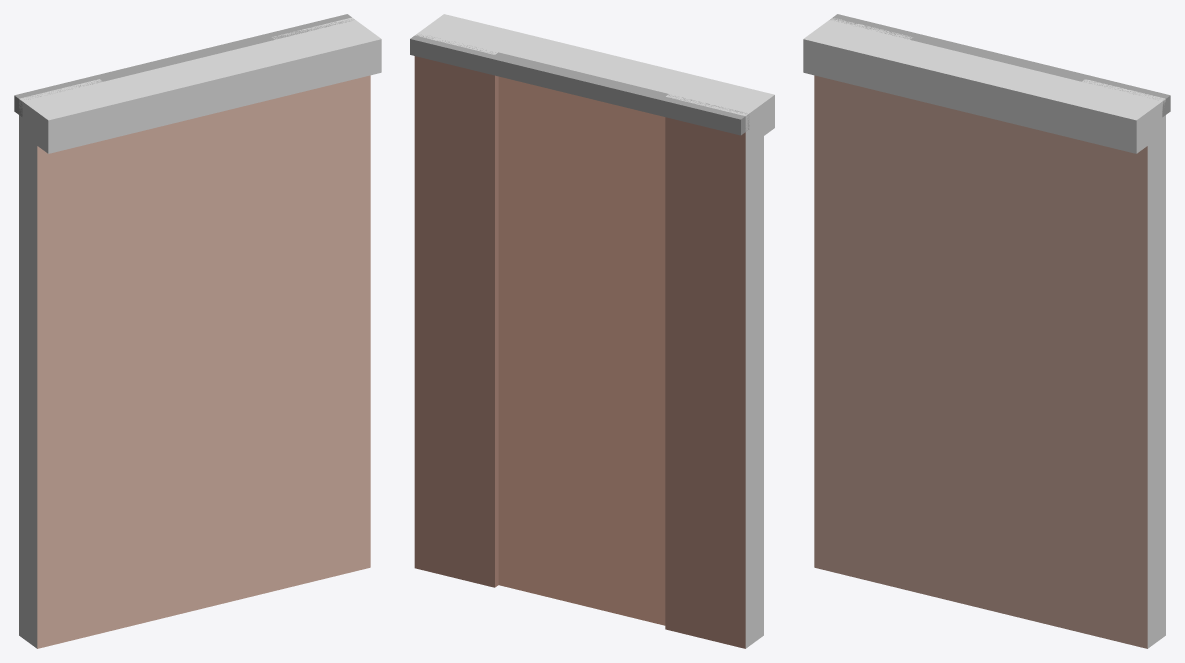
File: EntranceWall_01_Top.fbx
3 views of the same model, side by side, from view 1: azimuth 30°, elevation 25°; view 2: azimuth 150°, elevation 25°; view 3: azimuth 330°, elevation 25° (orthographic).
Parts seen in each view (by area): view 1: EntranceWall_01_Top; view 2: EntranceWall_01_Top; view 3: EntranceWall_01_Top.
Part boxes in pixels (x1,y1,x2,y2): EntranceWall_01_Top: (14, 14, 381, 648); EntranceWall_01_Top: (410, 14, 774, 648); EntranceWall_01_Top: (803, 14, 1170, 648).
Bounding box in the file's own units: 2.6 × 4 × 0.4635.
